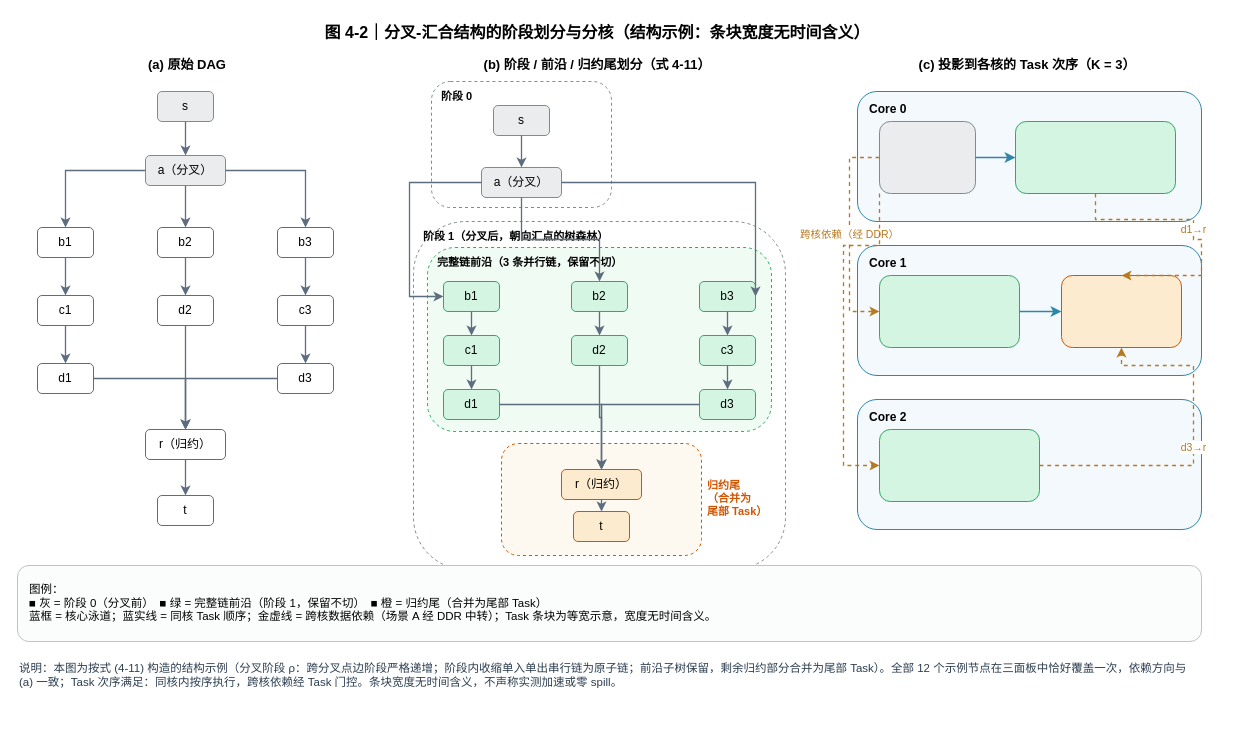
Image size: 1235x752. Some labels were removed from this diagram. Each missing label, with the centre of its shape:
Task 0 s → a （阶段 0）: the point at 927,157
Task 1 链1：b1→c1→d1 （前沿，阶段 1）: the point at 1095,157
Task 2 链2：b2→d2 （前沿，阶段 1）: the point at 949,311
Task 3 链3：b3→c3→d3 （前沿，阶段 1）: the point at 959,465
Task 4 r → t（归约尾）: the point at 1121,311
